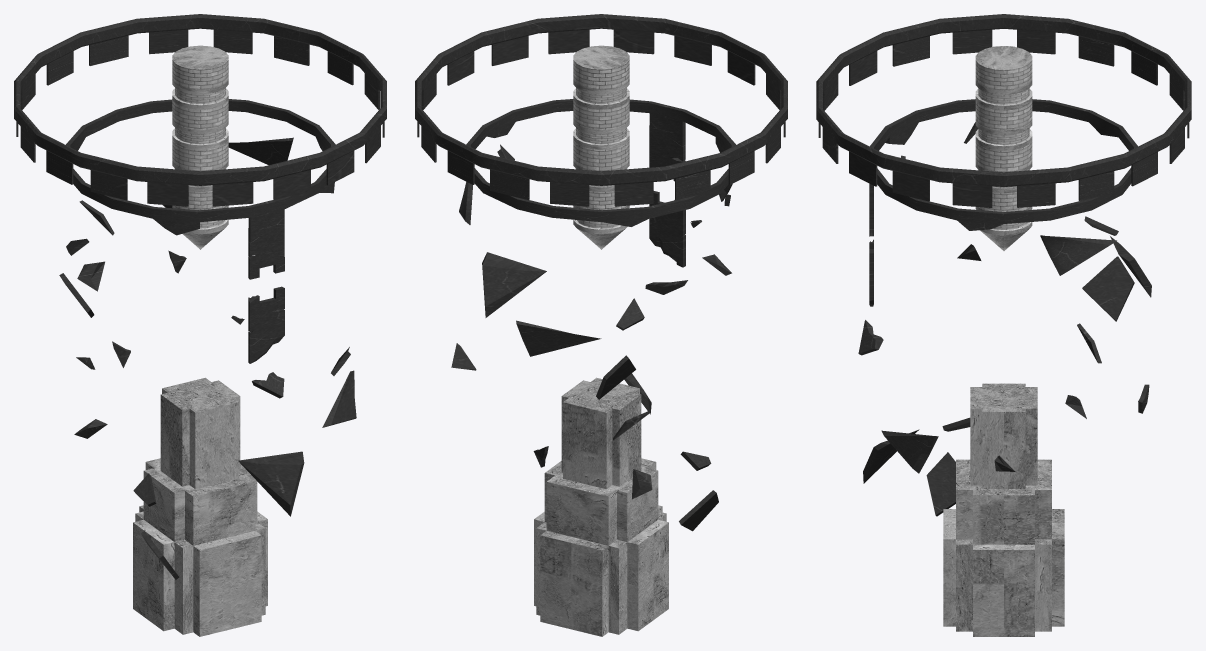
File: tower_under.fbx
3 views of the same model, side by side, from view 1: azimuth 30°, elevation 25°; view 2: azimuth 150°, elevation 25°; view 3: azimuth 270°, elevation 25° (orthographic).
Visible parts, largest first — view 1: daiza, wa_ue, wa_sita, tower; view 2: daiza, wa_ue, wa_sita, tower; view 3: daiza, wa_ue, wa_sita, tower.
Boxes of the visible parts, x1,y1,x2,y2 form: daiza: (133,377,267,636); wa_ue: (14,14,386,206); wa_sita: (59,99,356,579); tower: (172,45,228,249); daiza: (534,377,668,636); wa_ue: (415,14,787,206); wa_sita: (451,99,735,531); tower: (573,45,629,249); daiza: (943,383,1064,636); wa_ue: (816,14,1191,207); wa_sita: (858,99,1151,516); tower: (975,46,1032,250).
Bounding box in the file's own units: 198 × 318 × 195.
Materials: 4 (4 with a texture image).
